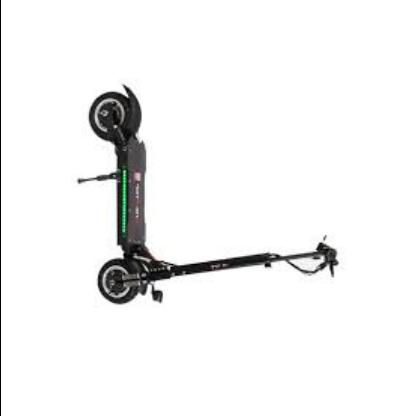bike: (75, 84, 342, 306)
